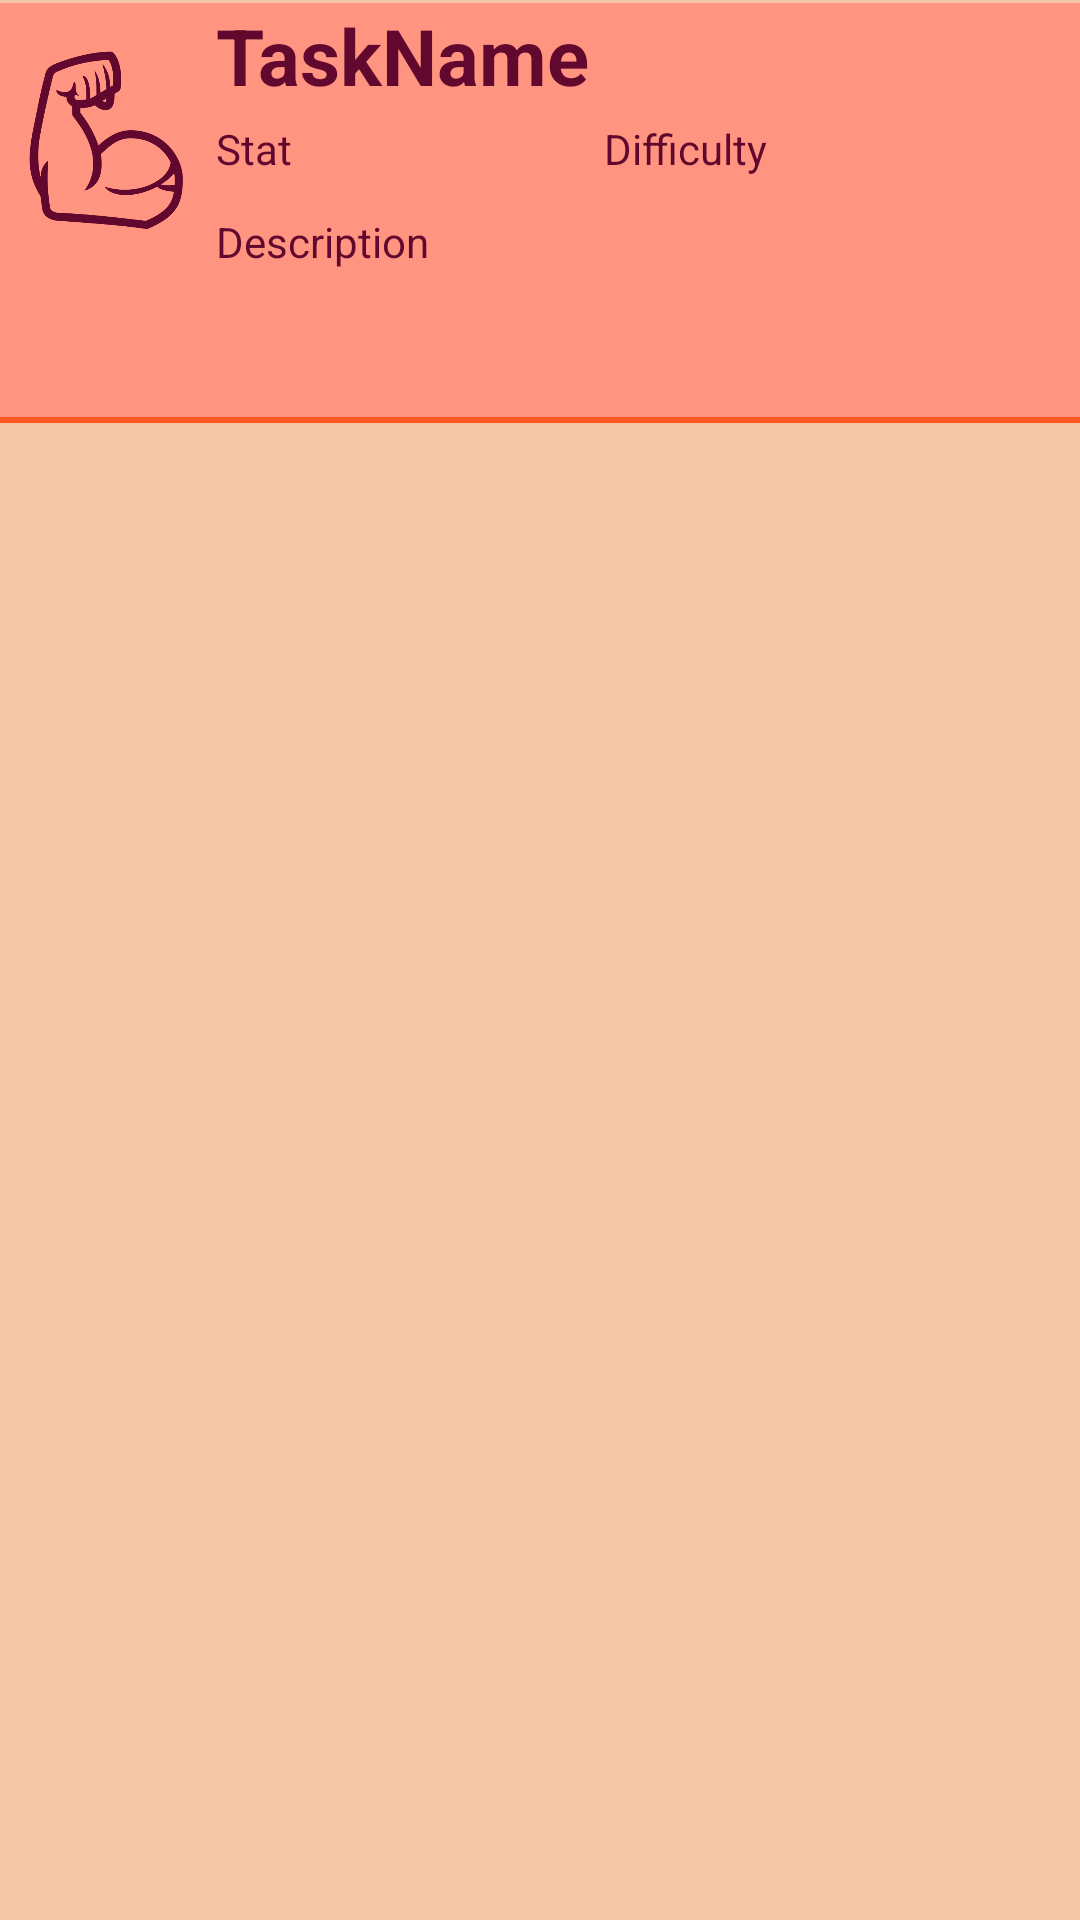

Icon click points for this 1080w x 1920h phone screenshot, format (x,y):
quest type strenght: (106,140)
